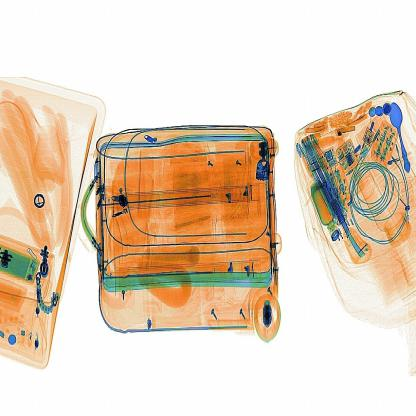scissors: (117, 188, 134, 215)
